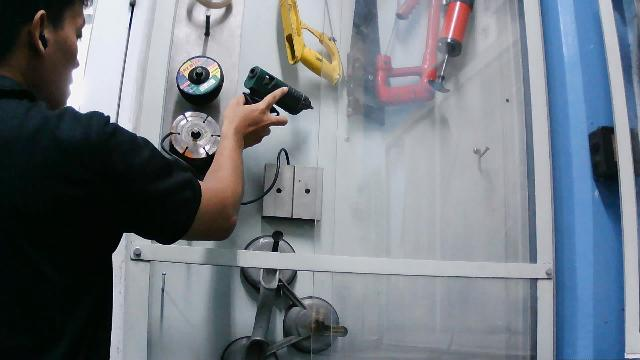gun_lem: (227, 65, 319, 136)
